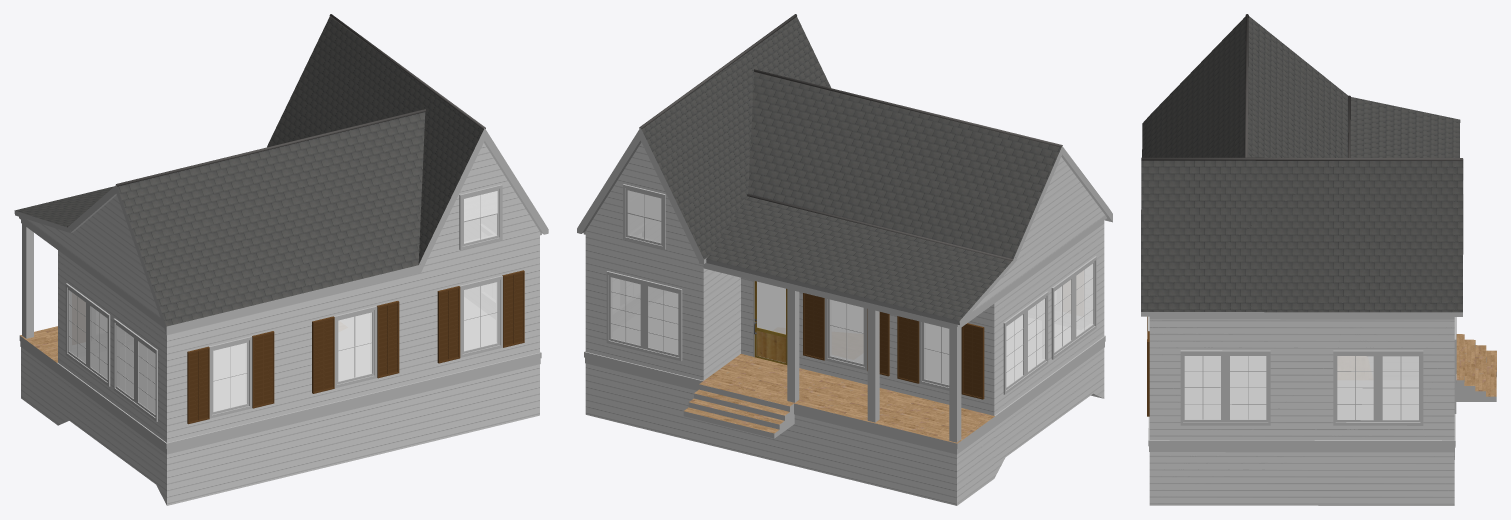
Rendered from house.glb.
3 renders of one model, left to right at view 1: azimuth 30°, elevation 25°; view 2: azimuth 150°, elevation 25°; view 3: azimuth 270°, elevation 25°, orthographic. The views are drawn at different scales.
Parts seen in each view (by area): view 1: Object_7, Object_12, Object_3, Object_10, Object_8, Object_9, Object_11; view 2: Object_12, Object_7, Object_3, Object_10, Object_11, Object_8, Object_9, Object_6; view 3: Object_12, Object_7, Object_3, Object_10, Object_11.
Boxes of the visible parts, x1,y1,x2,y2 form: Object_7: (21, 143, 539, 505); Object_12: (15, 14, 485, 326); Object_3: (14, 128, 548, 454); Object_10: (69, 191, 497, 414); Object_8: (189, 273, 523, 422); Object_9: (187, 270, 524, 424); Object_11: (20, 326, 57, 362); Object_12: (639, 14, 1062, 321); Object_7: (585, 142, 1105, 505); Object_3: (577, 127, 1112, 454); Object_10: (611, 190, 1093, 386); Object_11: (684, 354, 994, 443); Object_8: (804, 293, 981, 397); Object_9: (803, 293, 984, 399); Object_6: (757, 330, 785, 362); Object_12: (1141, 14, 1463, 312); Object_7: (1149, 319, 1454, 505); Object_3: (1141, 180, 1496, 452); Object_10: (1184, 356, 1418, 419); Object_11: (1456, 334, 1496, 396).
Bounding box in the file's own units: 3.18 × 2.43 × 2.47.
Materials: 10 (6 with a texture image).
